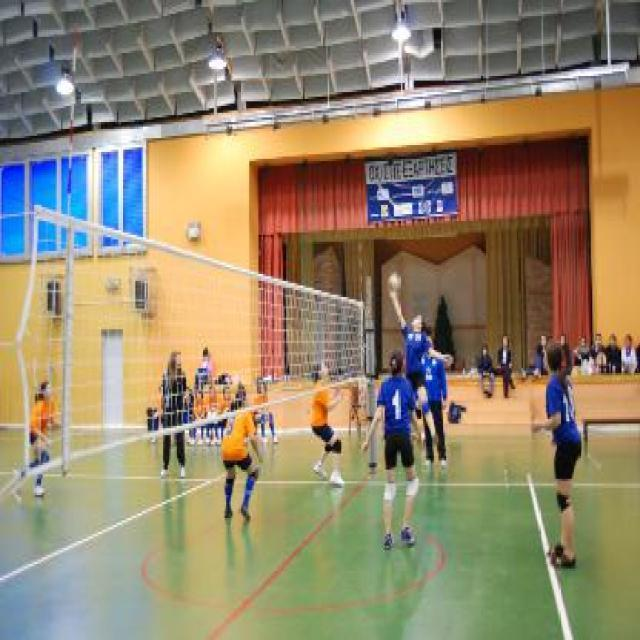volleyball: (386, 274, 404, 296)
